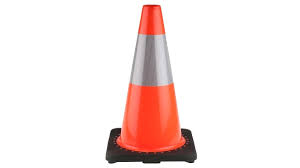cones: (106, 6, 197, 164)
